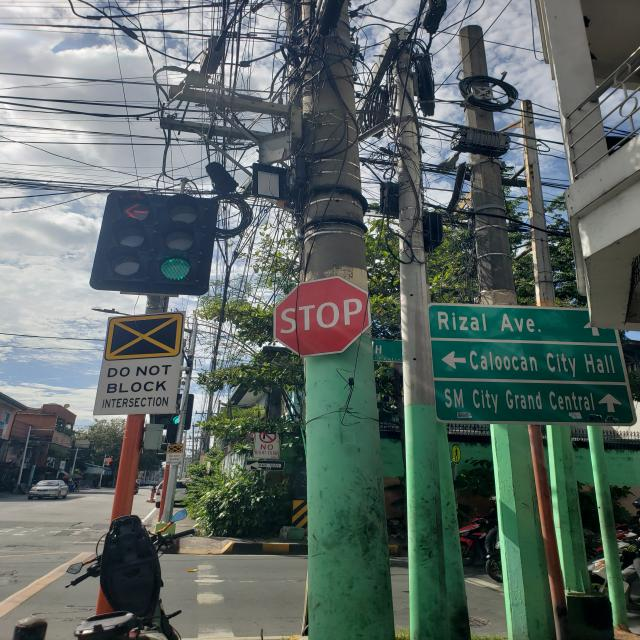stop-sign: (273, 275, 373, 358)
